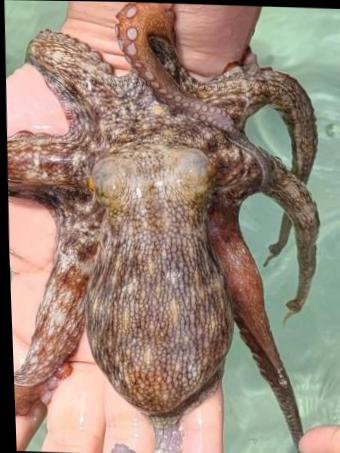Cephalopod: (6, 1, 318, 441)
